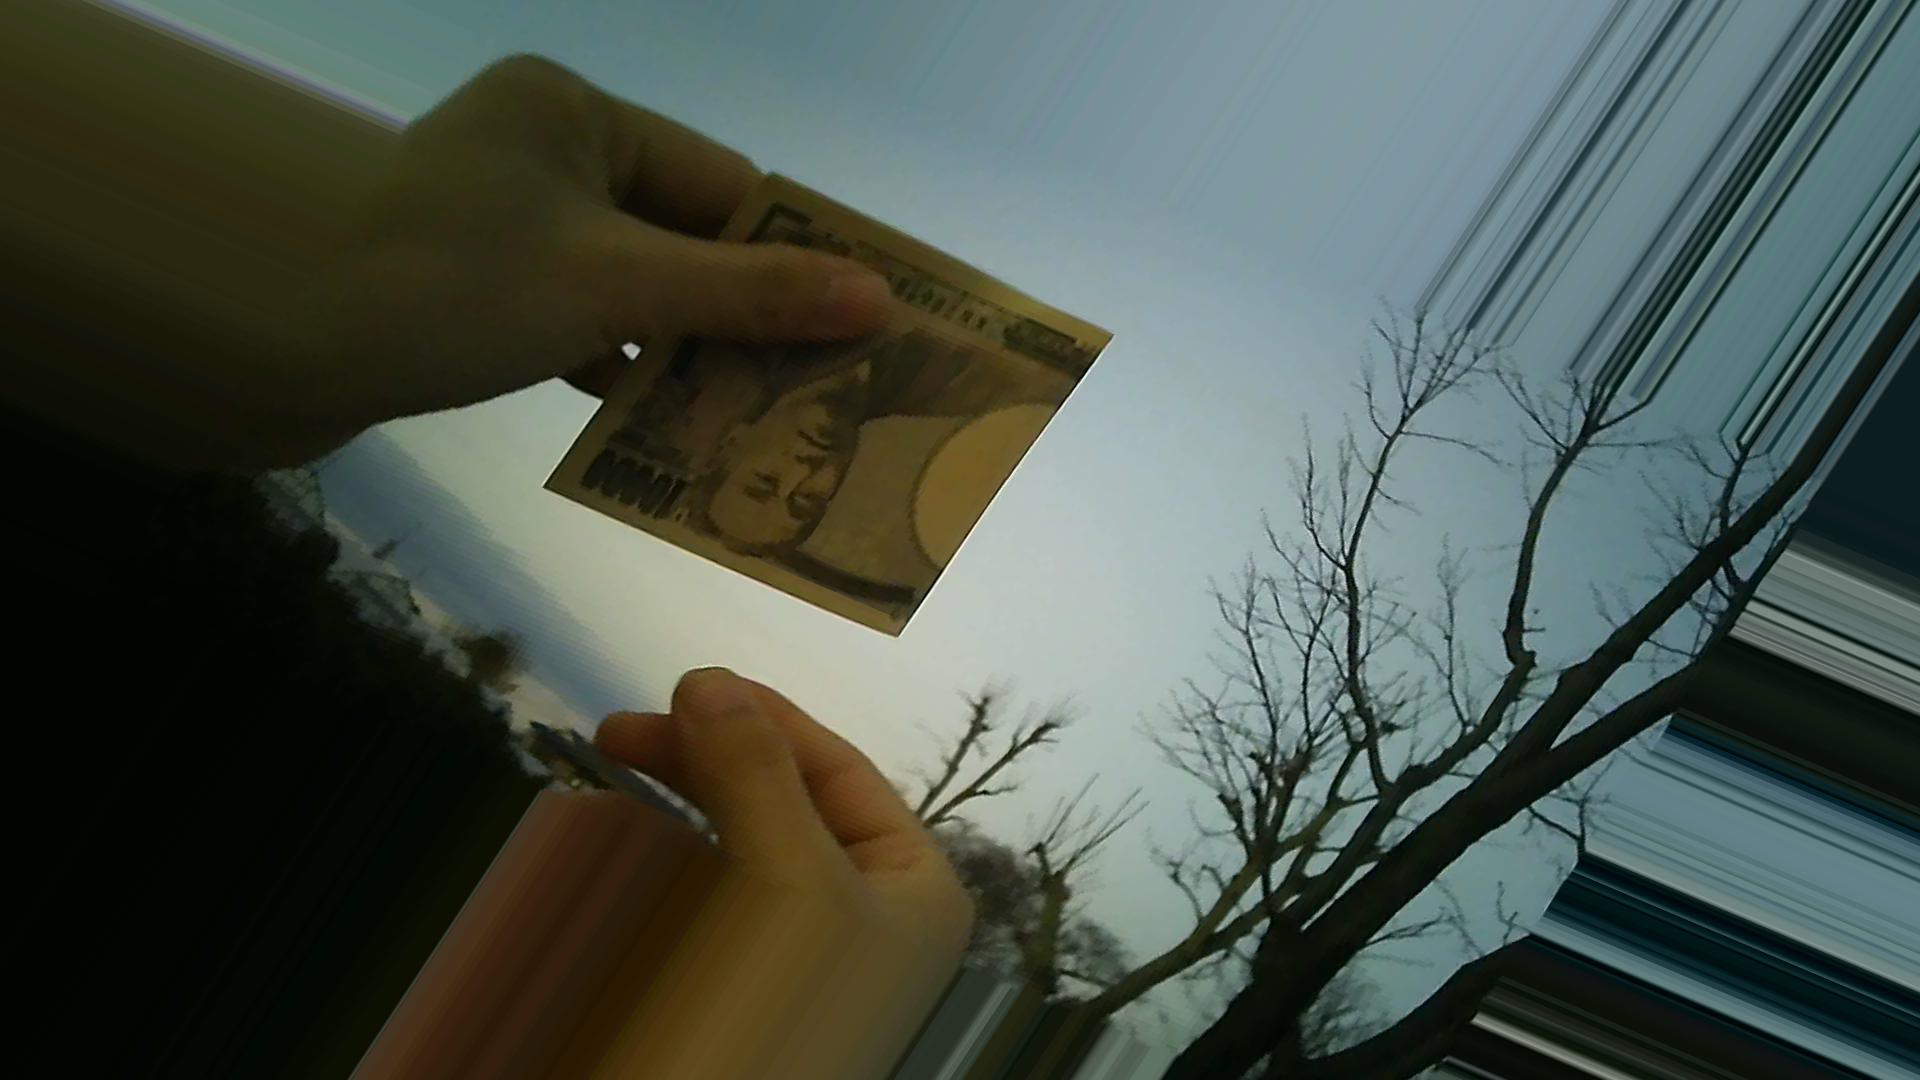10,000 Yen: (541, 153, 1114, 646)
